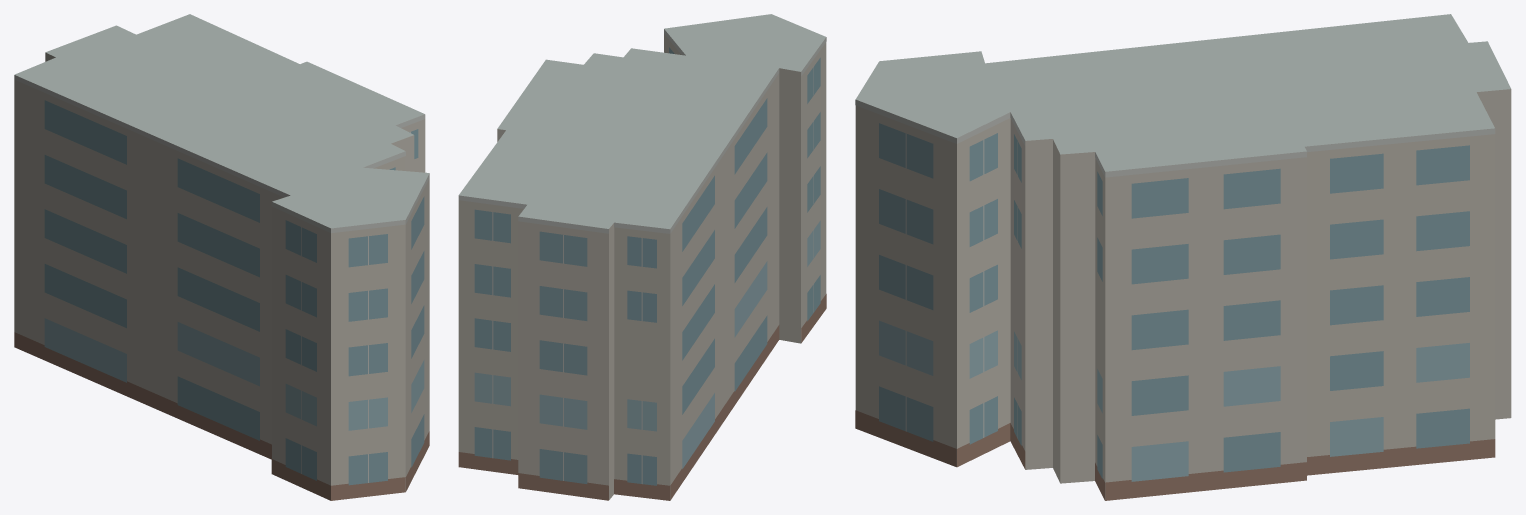
The model's file is survey-upis-32614666.glb.
3 views of the same model, side by side, from view 1: azimuth 30°, elevation 25°; view 2: azimuth 150°, elevation 25°; view 3: azimuth 270°, elevation 25° (orthographic). The views are drawn at different scales.
Visible parts, largest first — view 1: survey-upis-32614666.tmp; view 2: survey-upis-32614666.tmp; view 3: survey-upis-32614666.tmp.
Boxes of the visible parts, x1,y1,x2,y2 form: survey-upis-32614666.tmp: (14,14,429,500); survey-upis-32614666.tmp: (458,14,826,500); survey-upis-32614666.tmp: (855,14,1511,500).
Bounding box in the file's own units: 14.36 × 13.95 × 25.21.
